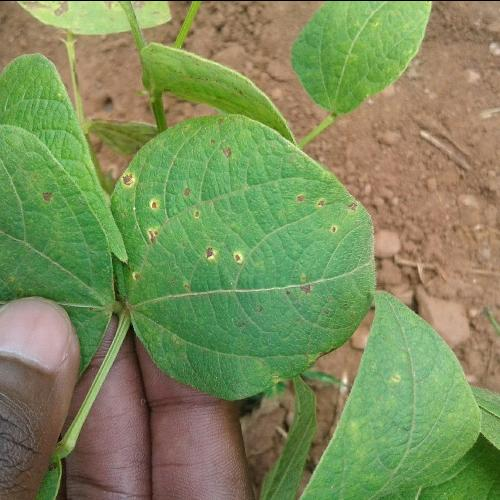hawar: (95, 111, 320, 307)
